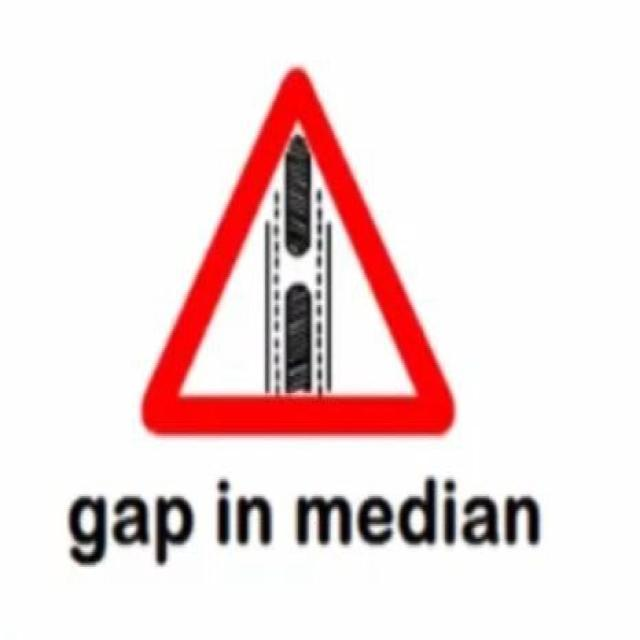gap in median: (137, 62, 457, 440)
